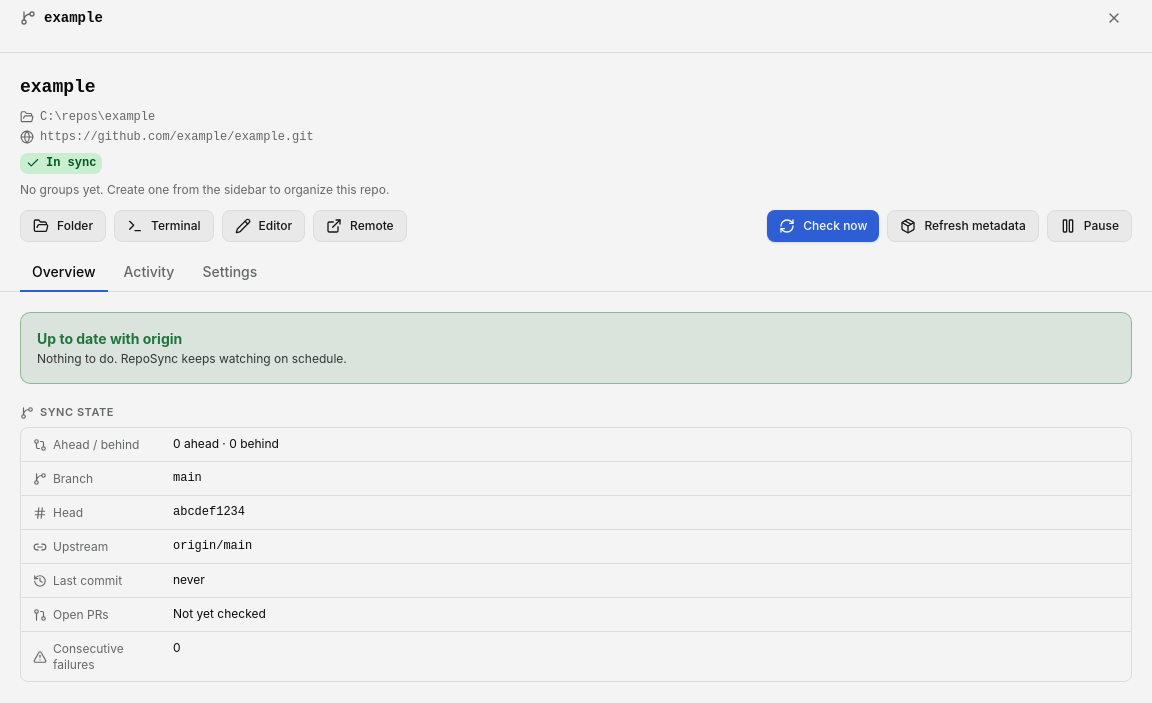
it: RepoDetailPanel remove › discloses the full consequence up front, and the first click only arms the confirm
This screenshot has width=1152, height=703.
Click the tab "Settings" at [230, 273], box [190, 254, 269, 292]
(page scrolled)
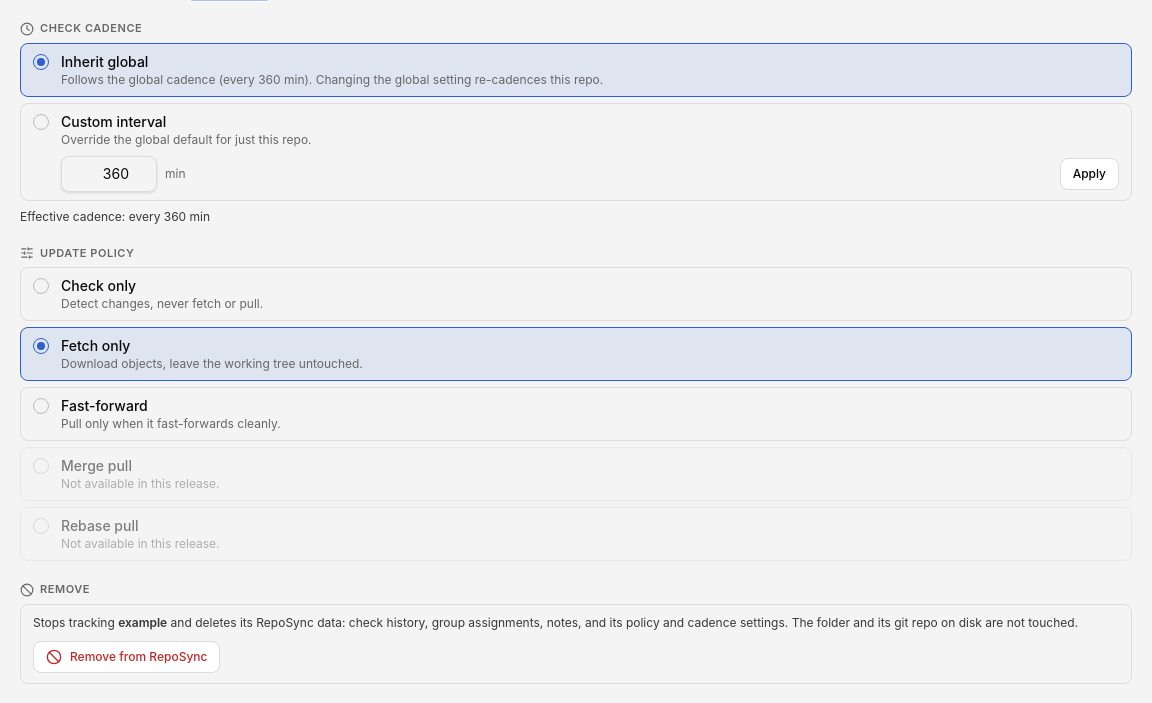
Expected: the text "not touched" is shown, [167, 615, 1078, 630]
Click the button "Remove from RepoSync" at [127, 657], box [33, 641, 220, 673]
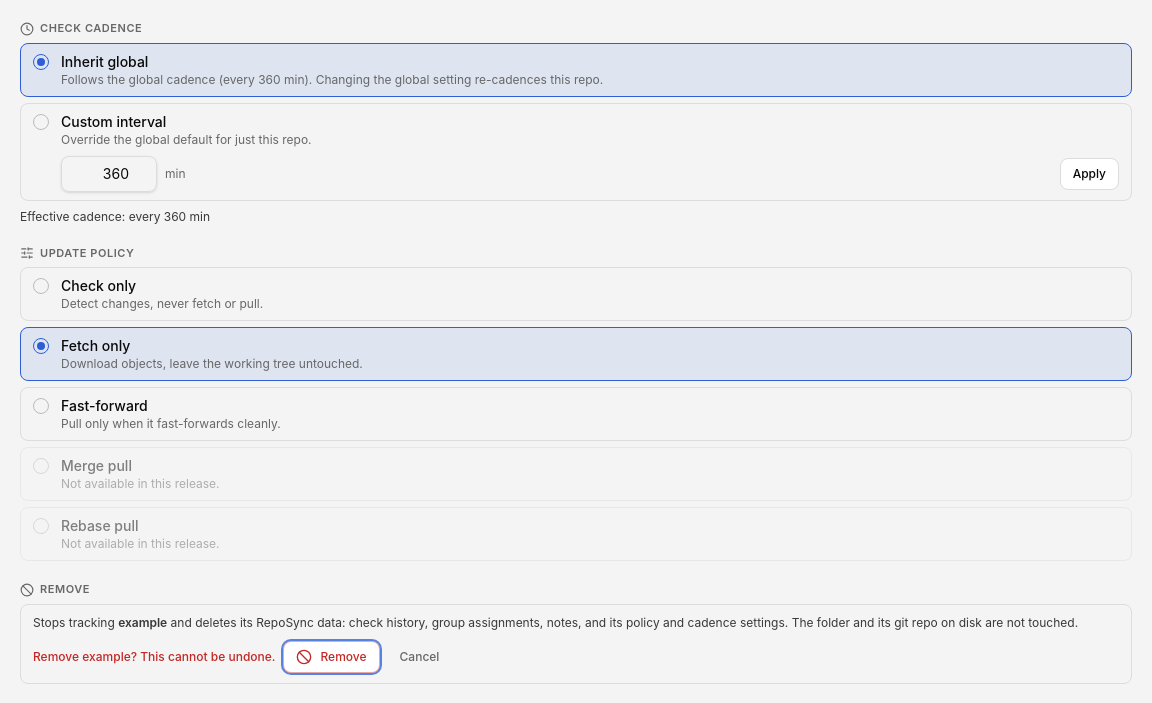
Expected: the text "Remove example? This cannot be undone." is shown, [33, 649, 276, 665]
